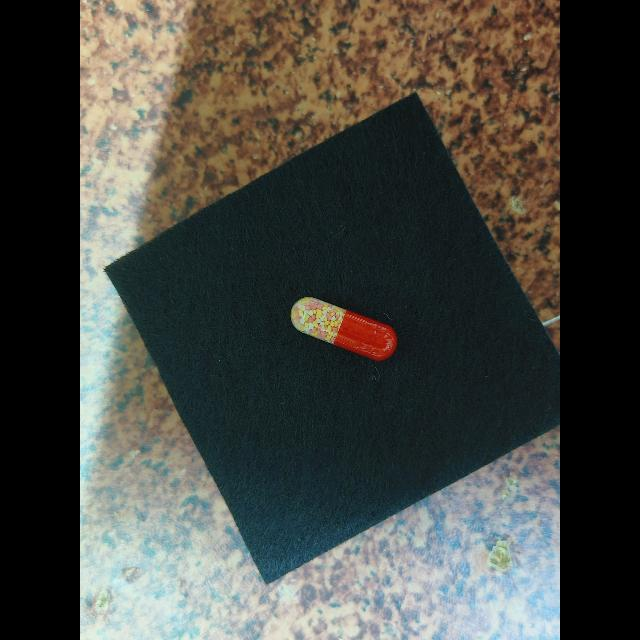Intact Capsule: (291, 297, 397, 361)
